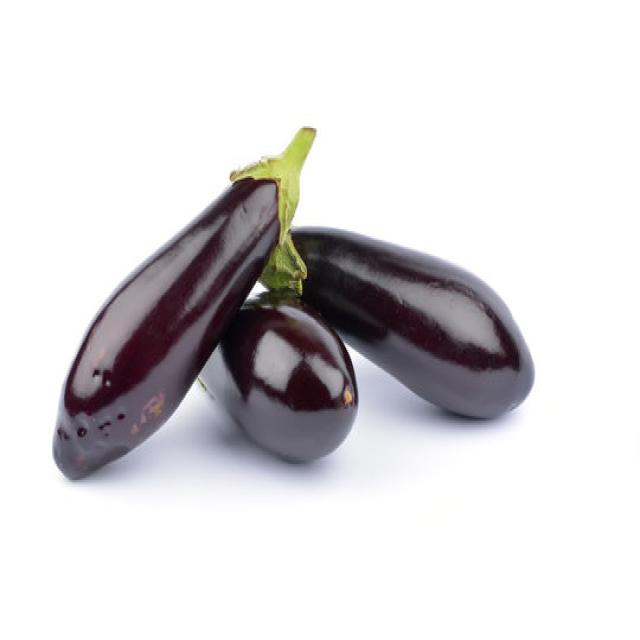Eggplant: (51, 123, 316, 480), (262, 222, 536, 420)
